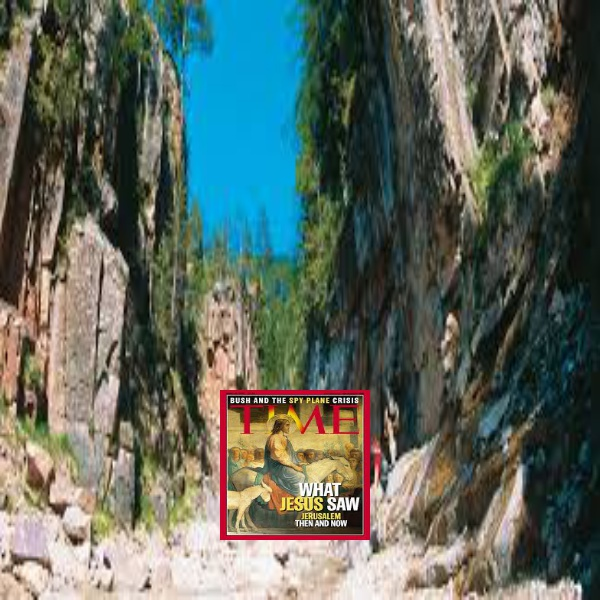time_cover: (215, 380, 375, 543)
